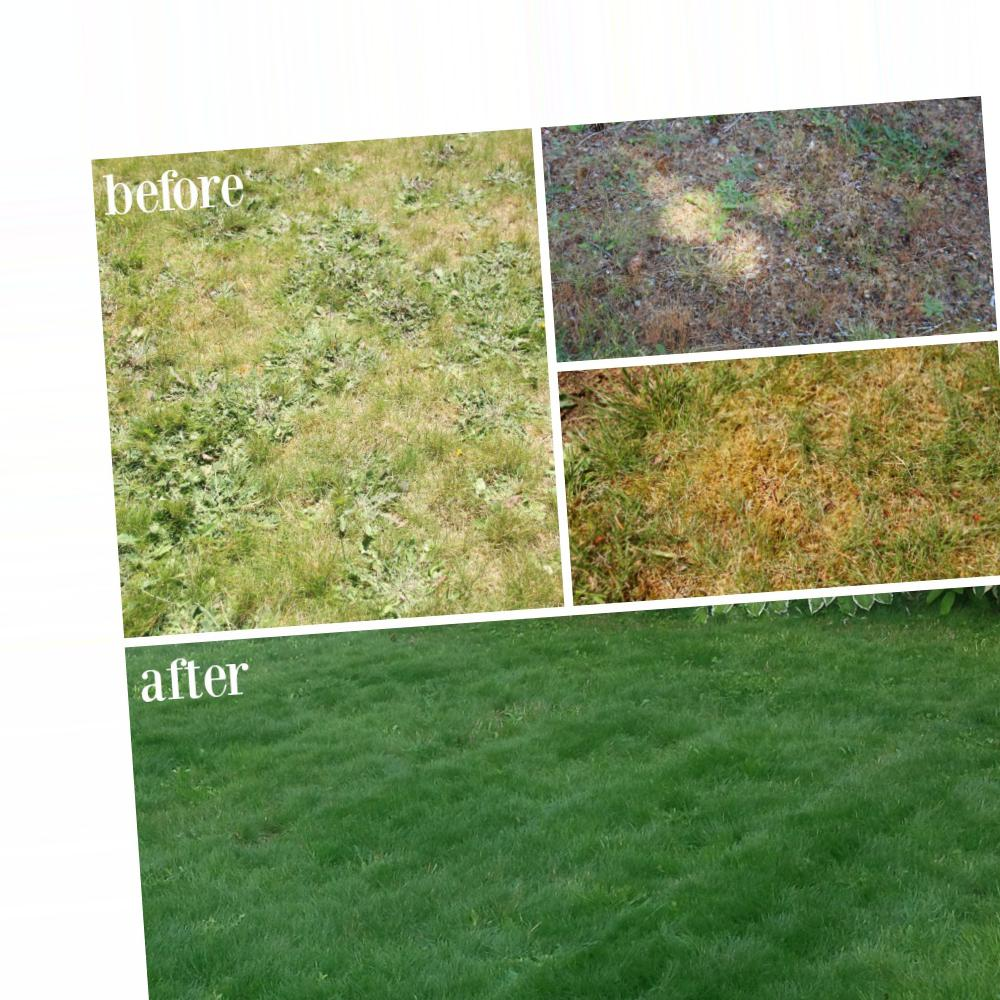patch: (180, 216, 507, 572), (571, 145, 968, 319), (608, 398, 987, 551)
